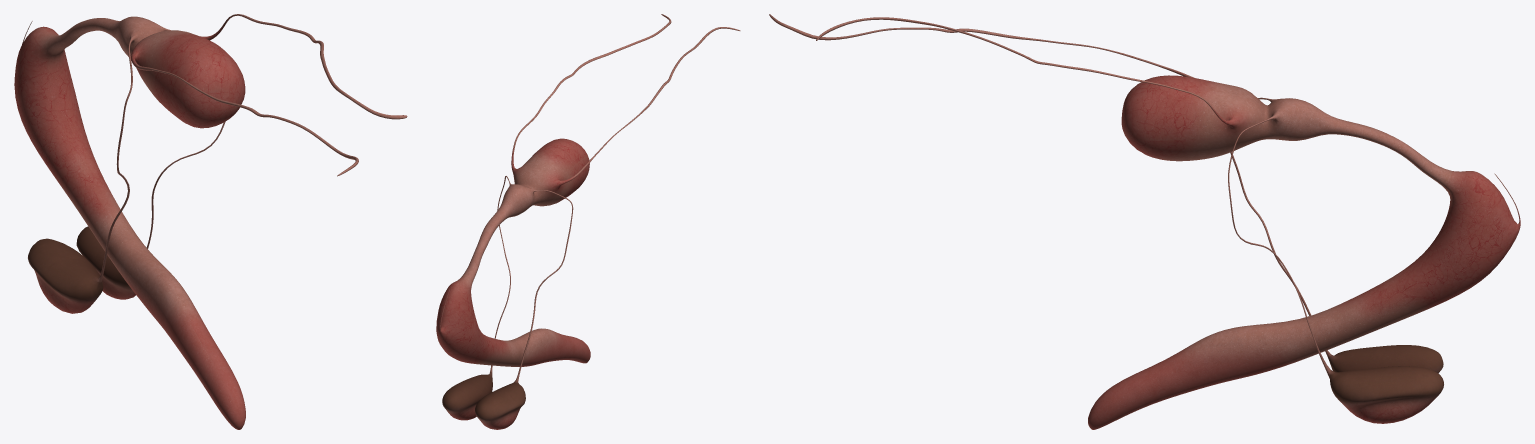
The model's file is Reproductive System.fbx.
3 renders of one model, left to right at view 1: azimuth 30°, elevation 25°; view 2: azimuth 150°, elevation 25°; view 3: azimuth 270°, elevation 25°, orthographic. The views are drawn at different scales.
Visible parts, largest first — view 1: Reproductive System; view 2: Reproductive System; view 3: Reproductive System.
Boxes of the visible parts, bbox=[...] form: Reproductive System: bbox=[14, 14, 407, 429]; Reproductive System: bbox=[436, 14, 740, 429]; Reproductive System: bbox=[769, 14, 1520, 429].
Bounding box in the file's own units: 10.25 × 32.04 × 53.15.
Materials: 1 (1 with a texture image).
